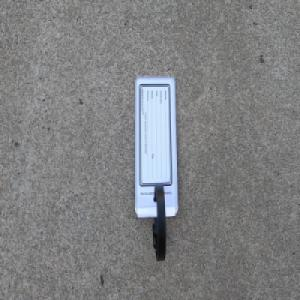LuggageTag: (132, 73, 180, 264)
